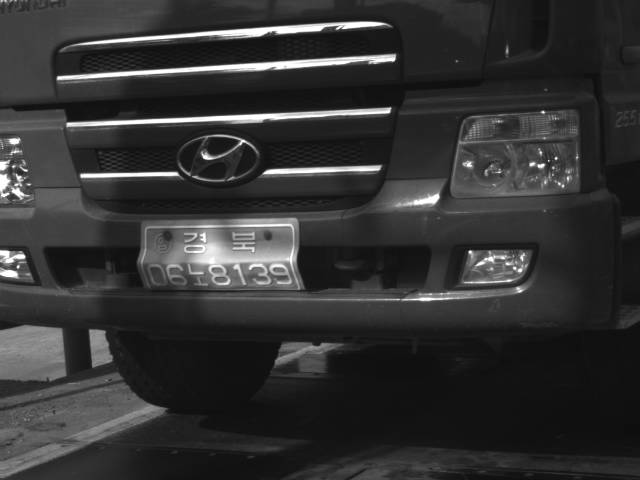car: (1, 1, 639, 411)
plate: (136, 217, 306, 291)
